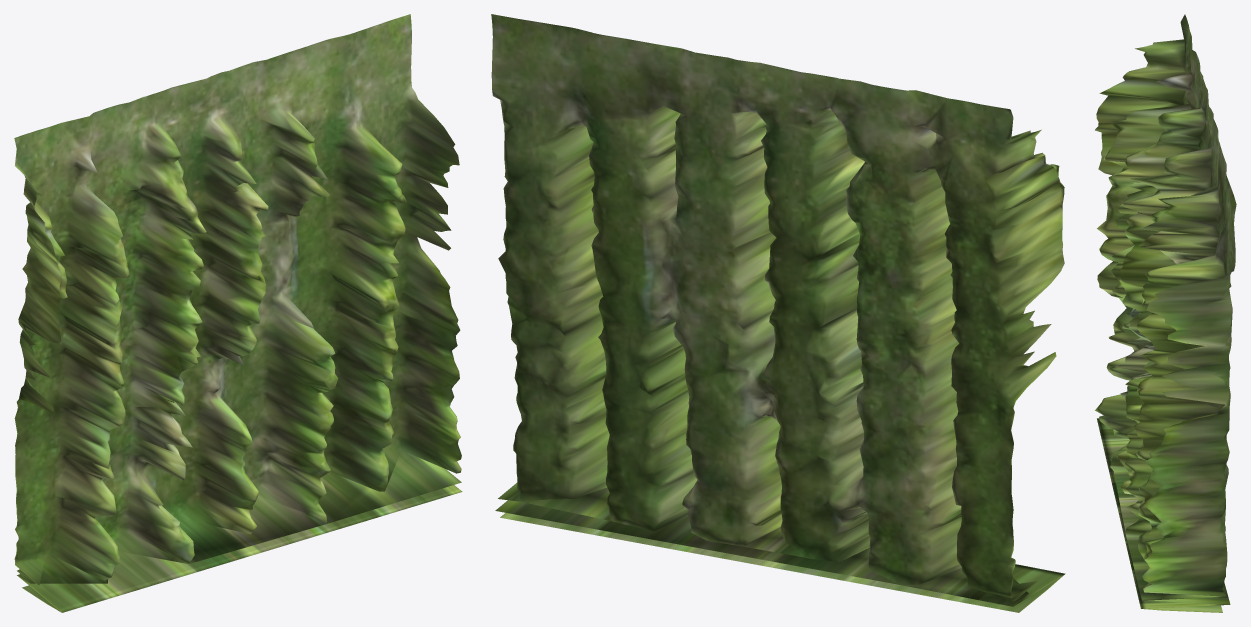
File: map_0_30.obj
3 renders of one model, left to right at view 1: azimuth 30°, elevation 25°; view 2: azimuth 150°, elevation 25°; view 3: azimuth 270°, elevation 25°, orthographic. The views are drawn at different scales.
Visible parts, largest first — view 1: map_0_30.obj; view 2: map_0_30.obj; view 3: map_0_30.obj.
Part boxes in pixels (x1=…): map_0_30.obj: x1=14, y1=14, x2=462, y2=612; map_0_30.obj: x1=491, y1=14, x2=1065, y2=612; map_0_30.obj: x1=1095, y1=14, x2=1236, y2=612.
Bounding box in the file's own units: 10 × 10 × 3.15.
Materials: 1 (1 with a texture image).
